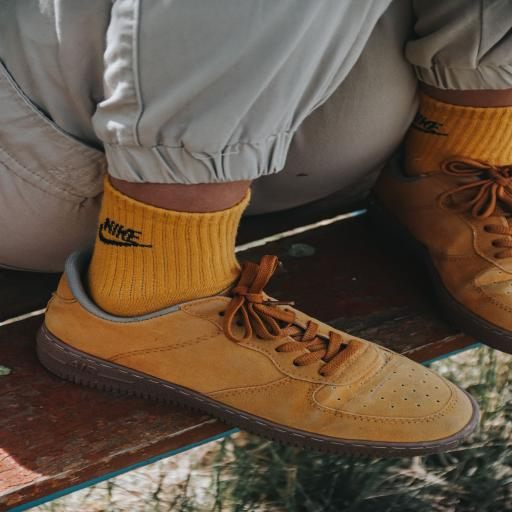shoe: (38, 250, 478, 457), (369, 154, 511, 353)
